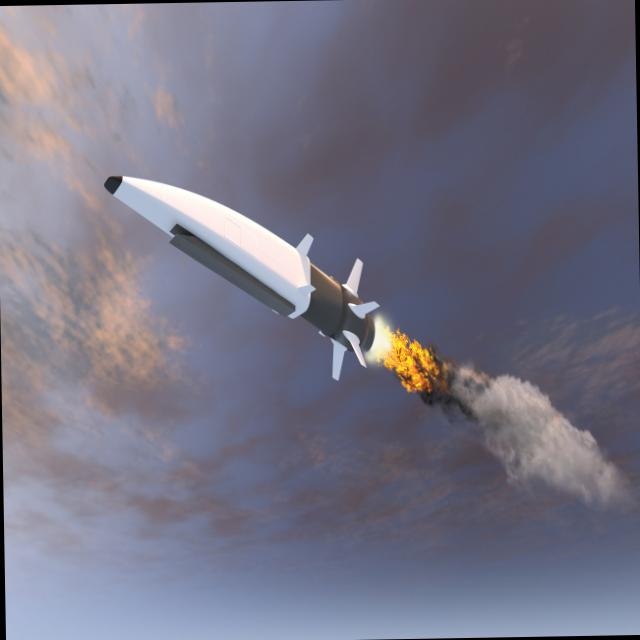rocket: (103, 159, 469, 400)
